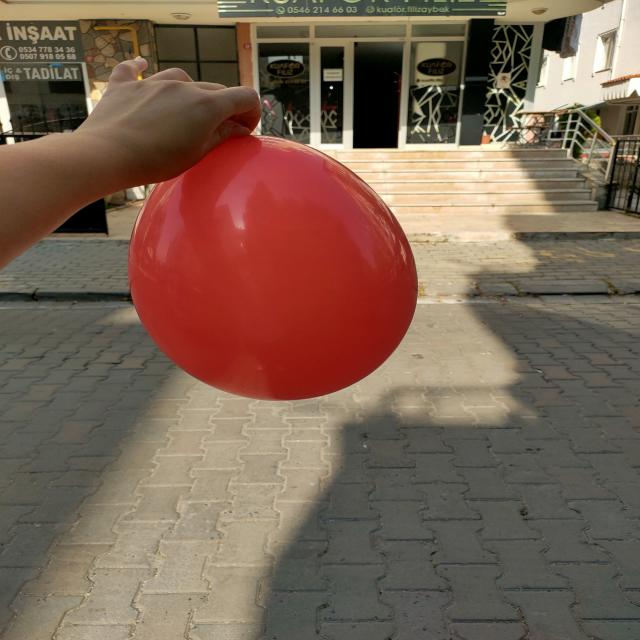red: (131, 136, 419, 403)
